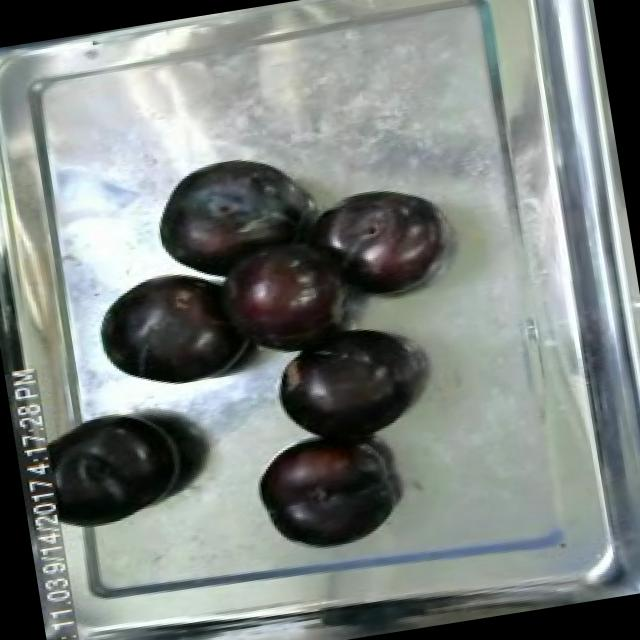Fruit: (142, 140, 324, 292), (85, 256, 256, 403), (198, 223, 365, 371), (36, 397, 198, 538), (250, 423, 404, 559), (266, 326, 416, 460), (312, 176, 456, 310)
